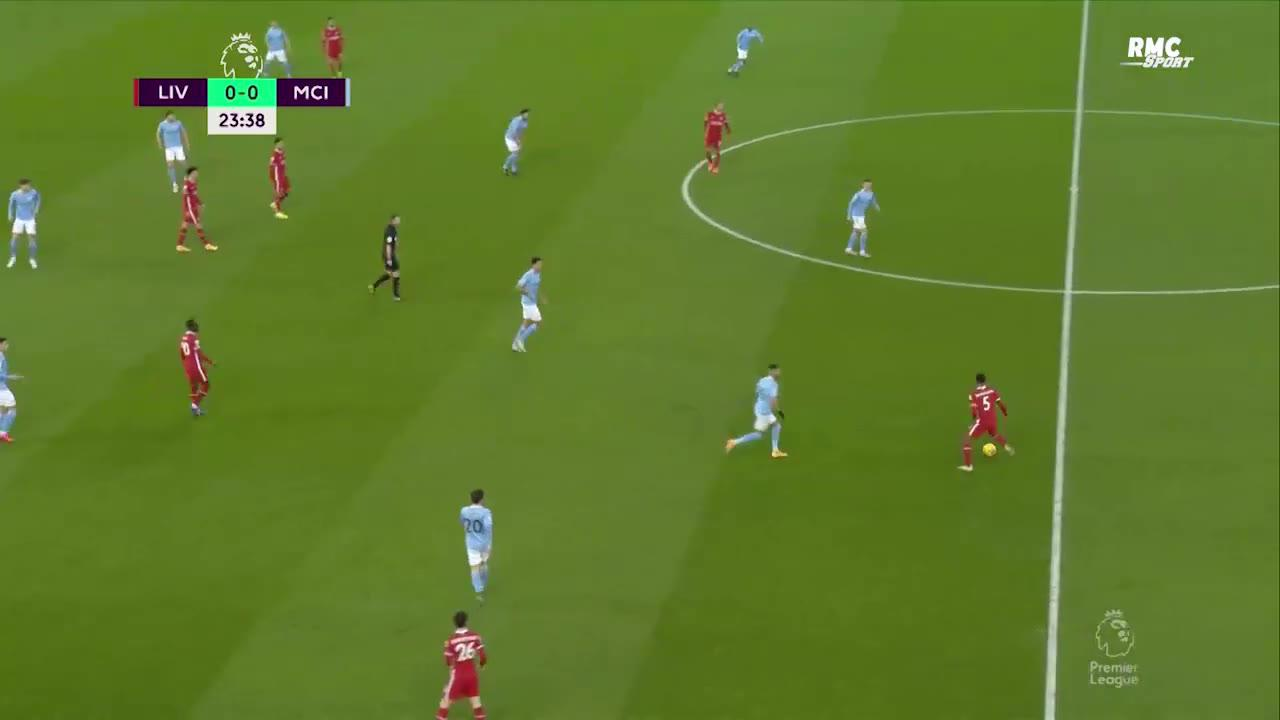futbol: (976, 437, 1000, 462)
player: (721, 359, 798, 466), (952, 369, 1018, 479), (450, 483, 508, 607), (436, 605, 494, 719), (168, 315, 223, 423), (504, 254, 555, 361), (170, 164, 219, 264), (4, 175, 46, 281), (151, 109, 200, 198), (839, 178, 887, 264), (260, 134, 302, 228), (496, 107, 540, 184), (695, 98, 736, 180), (0, 330, 27, 454), (254, 18, 297, 84), (724, 22, 769, 84), (317, 12, 350, 83)
referree: (363, 206, 411, 309)
